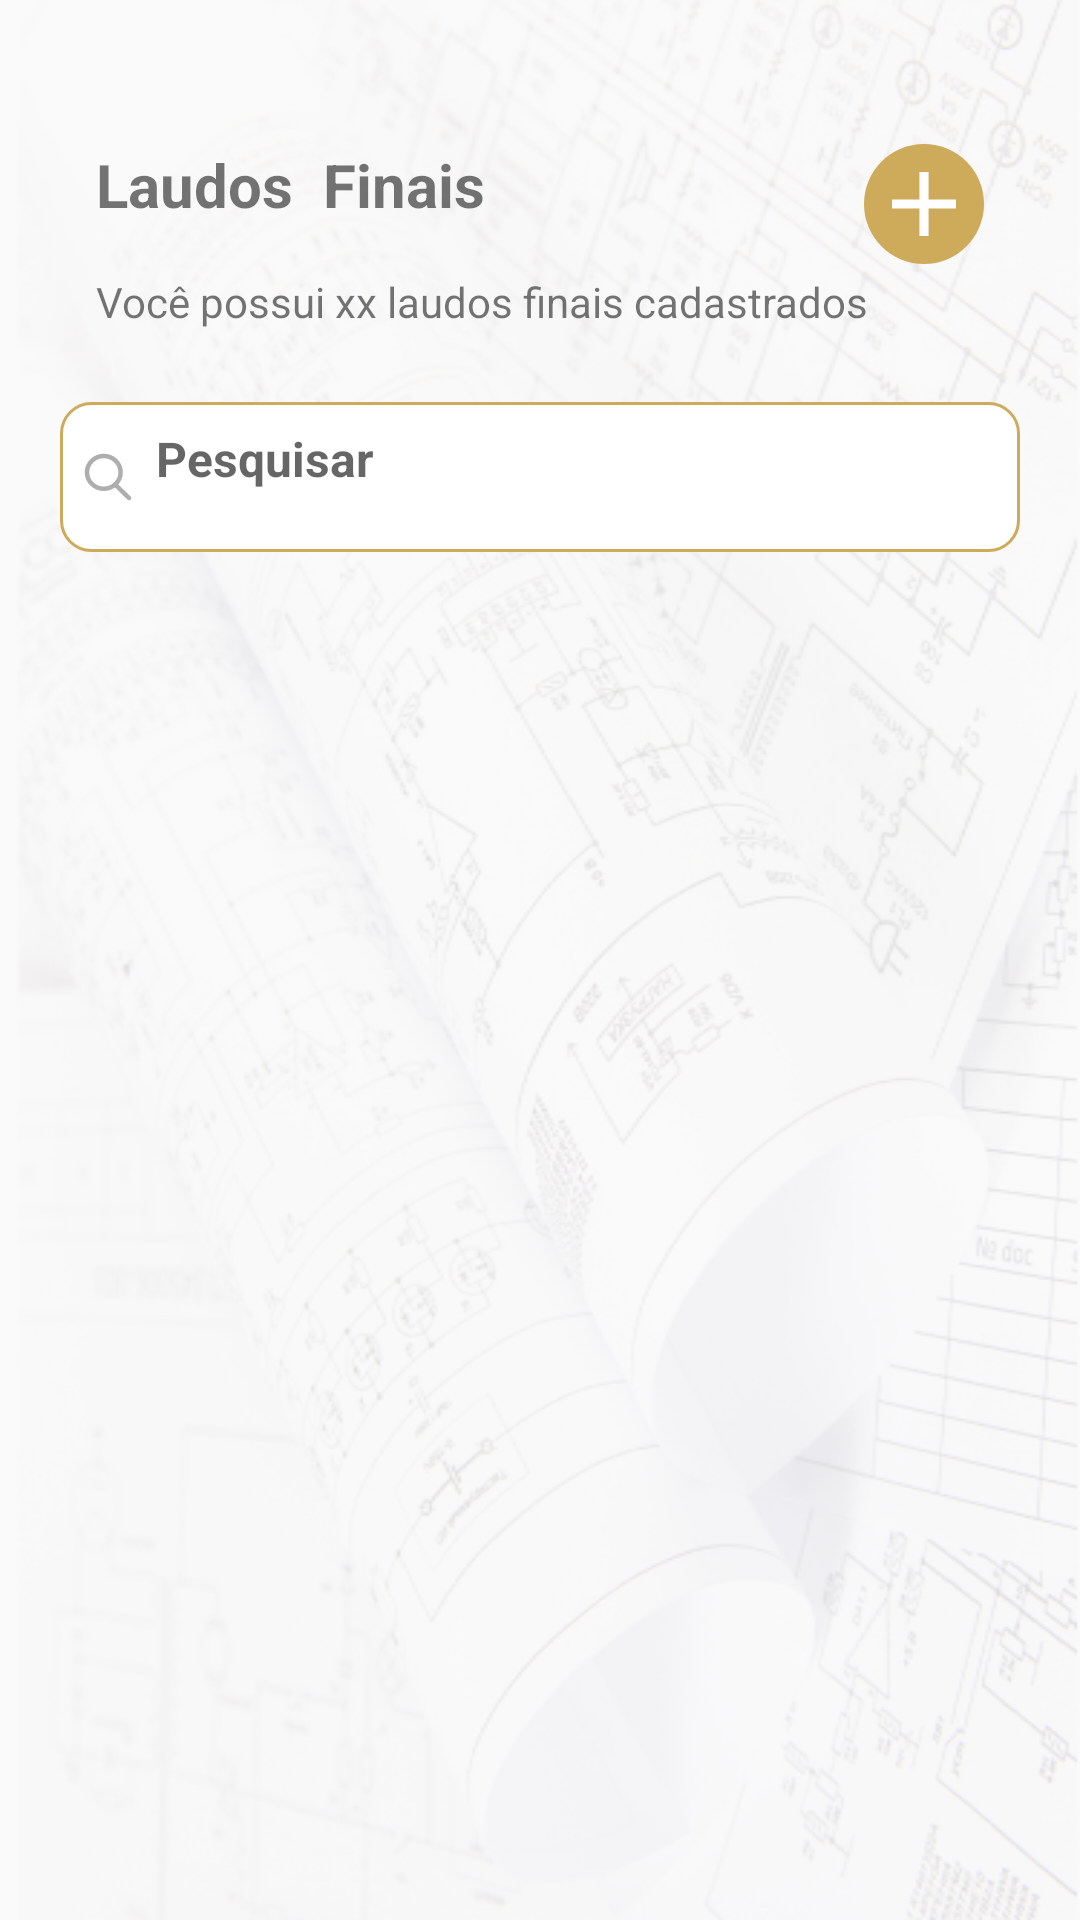

Screen size 1080×1920. Icon name, then its box in pixels as bbox=[x1, y1, x2, y2]:
adicionar: bbox=[864, 144, 984, 264]
